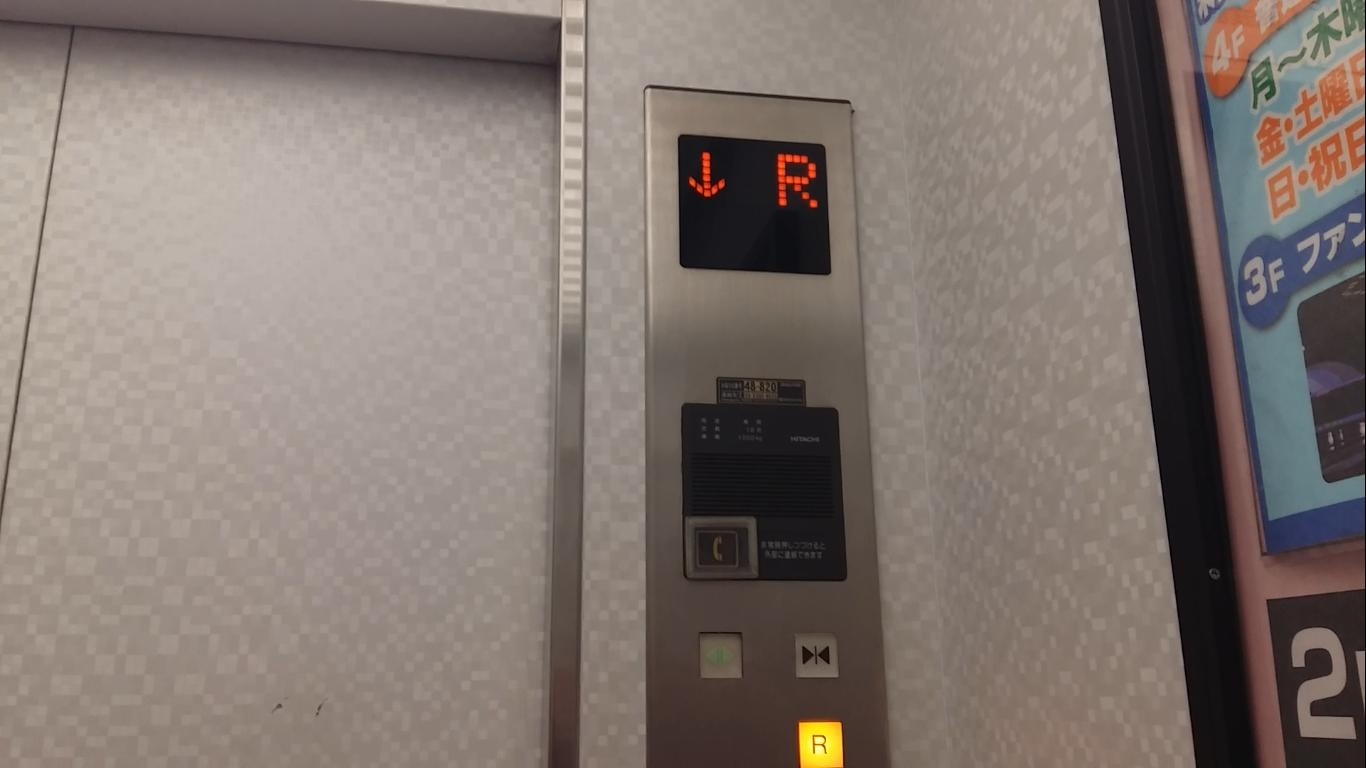R: (795, 719, 845, 767)
call: (688, 522, 744, 574)
close: (791, 629, 842, 682)
led: (677, 130, 836, 281)
open: (695, 629, 746, 685)
